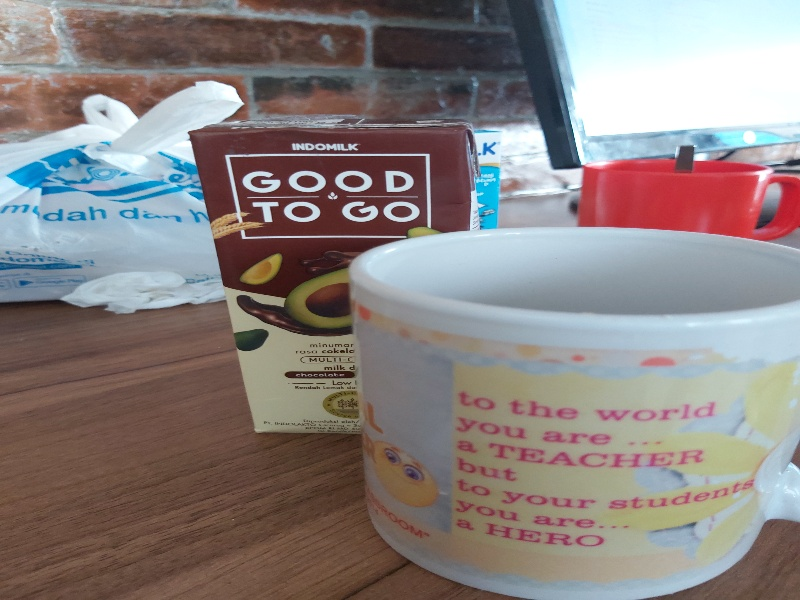cokelat: (189, 117, 483, 435)
